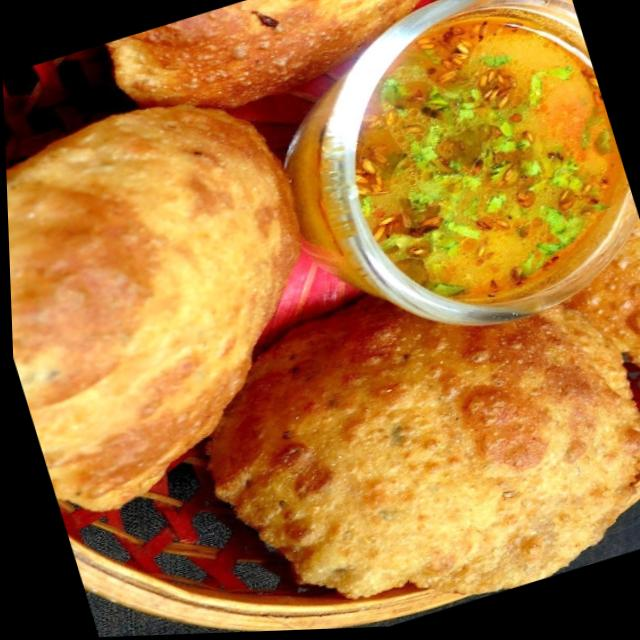CURRY: (354, 17, 628, 302)
POORI: (6, 0, 640, 597)
